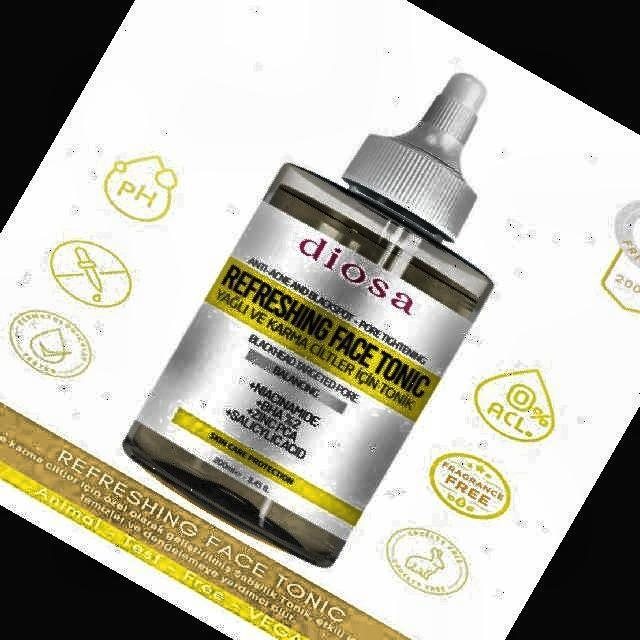plastic: (124, 74, 492, 566)
